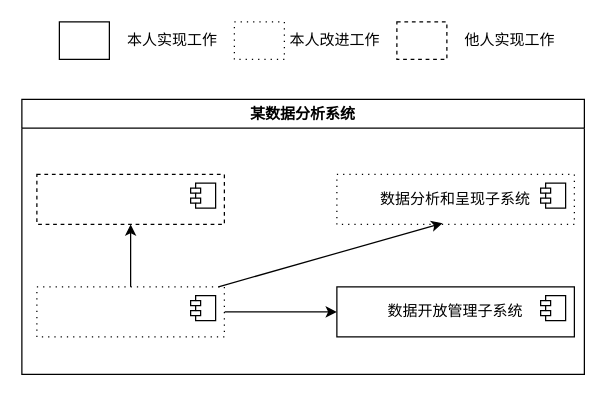
Some shapes in this 606 by 396 pixel diagram are drawn without their labels. Here are the shapes that lost their labels. From the top down, the centre of each, then its label:
At (x=130, y=198): "业务管理子系统".
At (x=130, y=311): "数据采集子系统".
